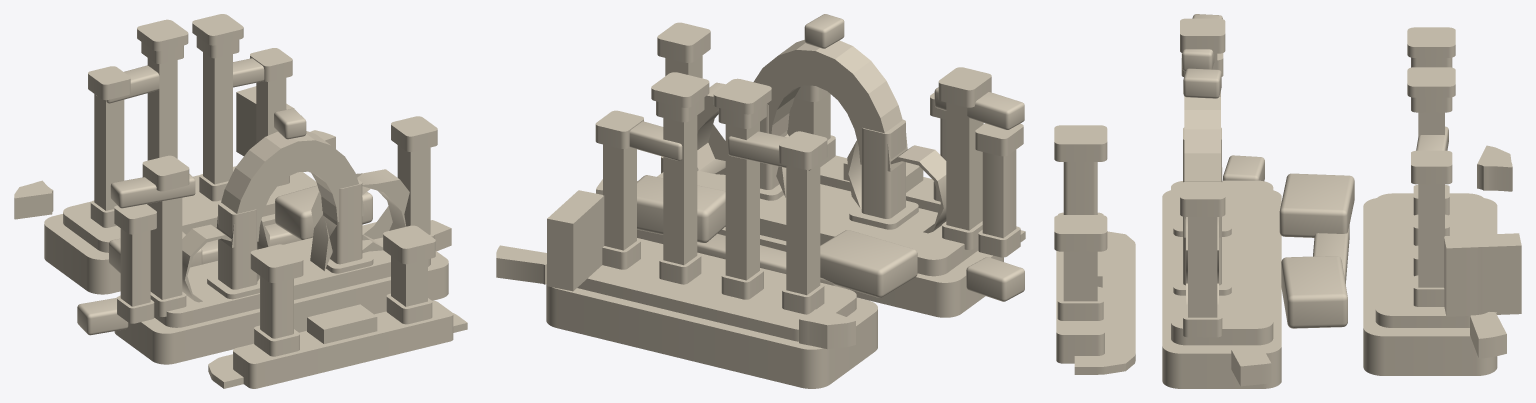
3 renders of one model, left to right at view 1: azimuth 30°, elevation 25°; view 2: azimuth 150°, elevation 25°; view 3: azimuth 270°, elevation 25°, orthographic. The views are drawn at different scales.
Visible parts, largest first — view 1: Dashuifa_Ruin_Base, Guanshuifa_South_Low_Base, Dashuifa_Central_Broken_Arch, Dashuifa_Ruin_Base_Course, Yuanyingguan_Column_02_shaft, Yuanyingguan_Platform_Top, Dashuifa_Volute_R, Yuanyingguan_Raised_Platform, Dashuifa_Left_Partial_Column_shaft, Yuanyingguan_Column_00_shaft, Dashuifa_Arch_Jamb_L, Yuanyingguan_Column_01_shaft (+40 smaller); view 2: Yuanyingguan_Raised_Platform, Yuanyingguan_Platform_Top, Dashuifa_Central_Broken_Arch, Dashuifa_Ruin_Base_Course, Axis_Remnant_West, Yuanyingguan_North_Wall_Fragment, Yuanyingguan_Column_02_shaft, Yuanyingguan_Column_01_shaft, Yuanyingguan_Column_00_shaft, Dashuifa_Ruin_Base, Dashuifa_Left_Partial_Column_shaft, Dashuifa_Arch_Jamb_L (+35 smaller); view 3: Dashuifa_Ruin_Base_Course, Yuanyingguan_Platform_Top, Yuanyingguan_Raised_Platform, Dashuifa_Ruin_Base, Yuanyingguan_North_Wall_Fragment, Paving_South_Axial_Platform, Axis_Remnant_East, Axis_Remnant_West, Dashuifa_Central_Broken_Arch, Dashuifa_Right_Partial_Column_shaft, Yuanyingguan_Column_03_shaft, Guanshuifa_South_Low_Base (+26 smaller).
Boxes of the visible parts, x1=… form: Dashuifa_Ruin_Base: x1=114, y1=251, x2=448, y2=364; Guanshuifa_South_Low_Base: x1=233, y1=300, x2=453, y2=388; Dashuifa_Central_Broken_Arch: x1=216, y1=131, x2=364, y2=247; Dashuifa_Ruin_Base_Course: x1=154, y1=222, x2=430, y2=327; Yuanyingguan_Column_02_shaft: x1=203, y1=52, x2=232, y2=184; Yuanyingguan_Platform_Top: x1=63, y1=166, x2=315, y2=252; Dashuifa_Volute_R: x1=310, y1=169, x2=409, y2=270; Yuanyingguan_Raised_Platform: x1=44, y1=172, x2=317, y2=293; Dashuifa_Left_Partial_Column_shaft: x1=149, y1=197, x2=182, y2=299; Yuanyingguan_Column_00_shaft: x1=94, y1=94, x2=124, y2=210; Dashuifa_Arch_Jamb_L: x1=218, y1=202, x2=257, y2=289; Yuanyingguan_Column_01_shaft: x1=147, y1=58, x2=177, y2=160; Yuanyingguan_Raised_Platform: x1=546, y1=284, x2=877, y2=388; Yuanyingguan_Platform_Top: x1=577, y1=238, x2=856, y2=341; Dashuifa_Central_Broken_Arch: x1=753, y1=40, x2=907, y2=171; Dashuifa_Ruin_Base_Course: x1=657, y1=170, x2=978, y2=276; Axis_Remnant_West: x1=820, y1=230, x2=917, y2=297; Yuanyingguan_North_Wall_Fragment: x1=547, y1=190, x2=604, y2=291; Yuanyingguan_Column_02_shaft: x1=663, y1=115, x2=697, y2=265; Yuanyingguan_Column_01_shaft: x1=725, y1=122, x2=759, y2=280; Yuanyingguan_Column_00_shaft: x1=786, y1=163, x2=820, y2=295; Dashuifa_Ruin_Base: x1=637, y1=227, x2=1003, y2=317; Dashuifa_Left_Partial_Column_shaft: x1=946, y1=102, x2=983, y2=230; Dashuifa_Arch_Jamb_L: x1=861, y1=119, x2=905, y2=218; Dashuifa_Ruin_Base_Course: x1=1171, y1=180, x2=1273, y2=345; Yuanyingguan_Platform_Top: x1=1375, y1=193, x2=1485, y2=327; Yuanyingguan_Raised_Platform: x1=1363, y1=198, x2=1497, y2=375; Dashuifa_Ruin_Base: x1=1162, y1=190, x2=1281, y2=388; Yuanyingguan_North_Wall_Fragment: x1=1444, y1=233, x2=1521, y2=316; Paving_South_Axial_Platform: x1=1074, y1=231, x2=1135, y2=374; Axis_Remnant_East: x1=1281, y1=256, x2=1347, y2=328; Axis_Remnant_West: x1=1279, y1=173, x2=1354, y2=237; Dashuifa_Central_Broken_Arch: x1=1184, y1=91, x2=1220, y2=237; Dashuifa_Right_Partial_Column_shaft: x1=1188, y1=217, x2=1217, y2=317; Yuanyingguan_Column_03_shaft: x1=1418, y1=184, x2=1444, y2=287; Guanshuifa_South_Low_Base: x1=1056, y1=251, x2=1104, y2=363.
Bounding box in the file's own units: 2.67 × 1.53 × 2.56.
